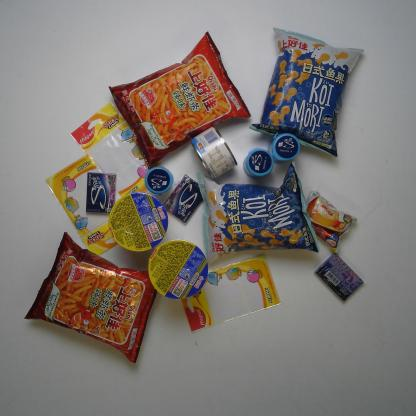Canned Food: (189, 126, 237, 178)
Dessert: (294, 189, 360, 254)
Gum: (314, 252, 365, 304), (161, 172, 207, 223), (85, 172, 117, 214), (266, 132, 302, 164), (241, 147, 274, 179), (144, 166, 173, 194)
Instant Noodles: (108, 192, 170, 252), (148, 238, 207, 301)
Puffed Food: (107, 30, 251, 167), (25, 232, 162, 364), (245, 27, 365, 159), (193, 161, 321, 267)
Stationery: (44, 153, 130, 257), (70, 102, 161, 200), (178, 250, 281, 334)
